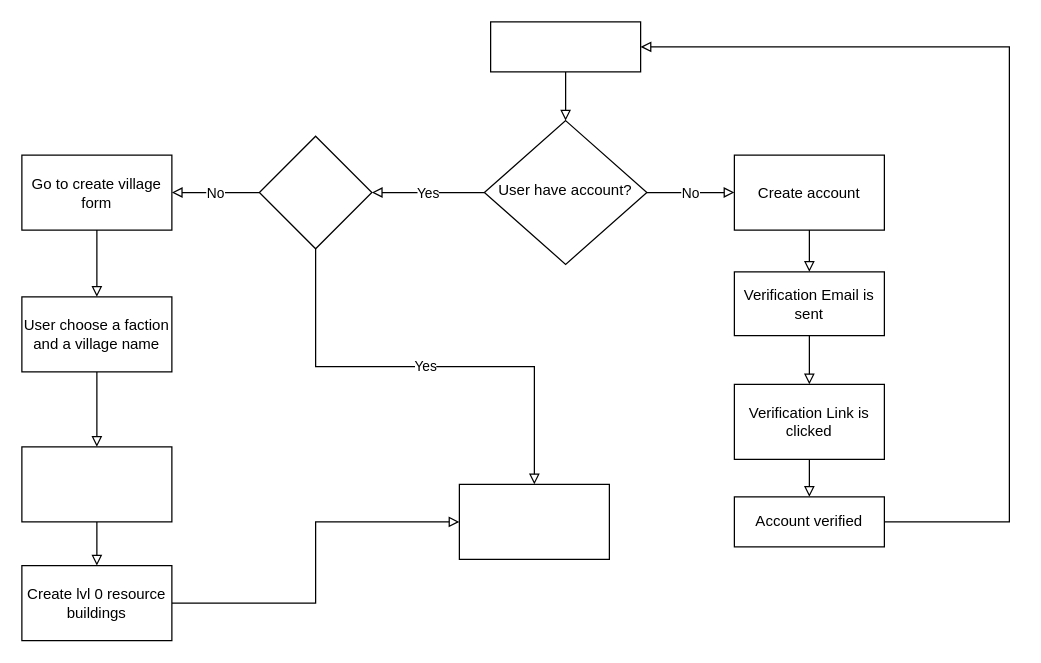
This 1041x663 diagram has some shape labels left out. The shapes that lost their labels are listed below. From the top down, each one's centre as x and y in pixels, then its label:
At pixel 565 46: "User Login".
At pixel 315 192: "User has village?".
At pixel 96 484: "Create Village".
At pixel 533 521: "Go to village".
